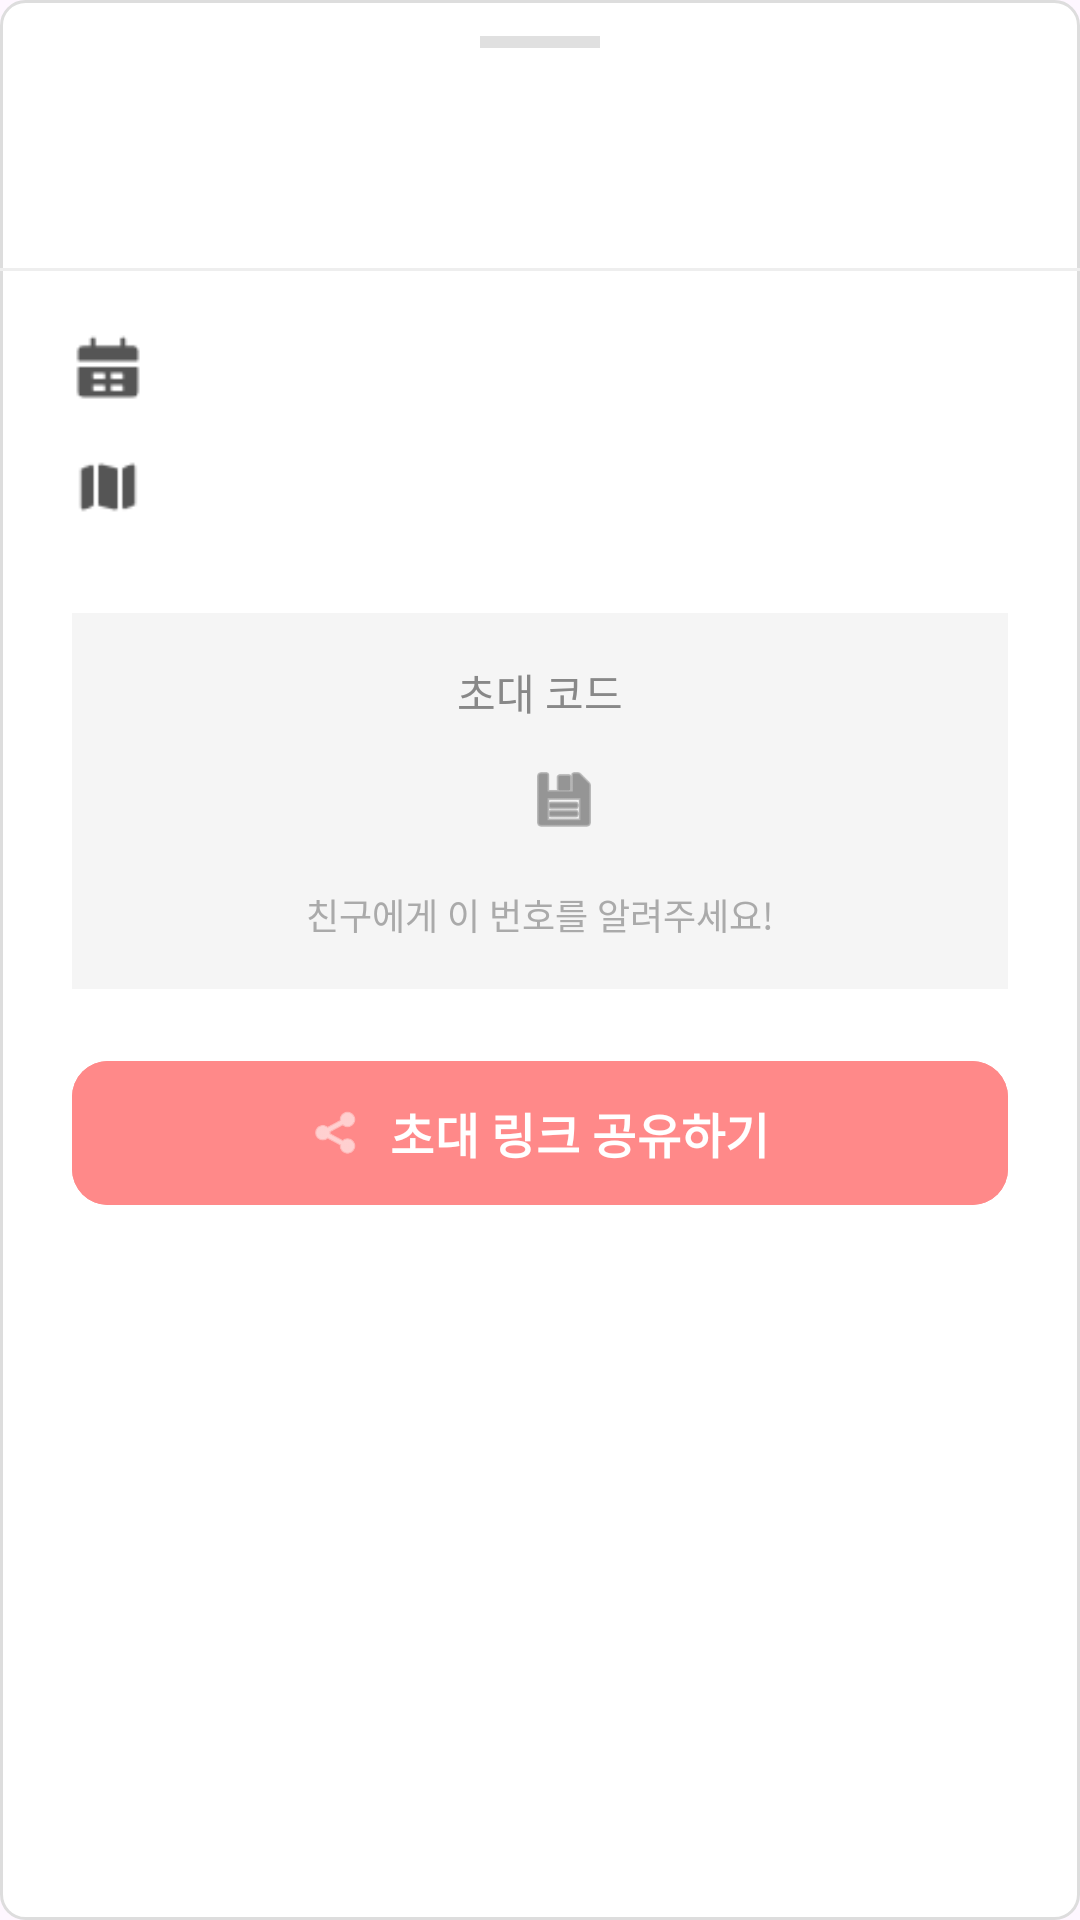

Where to tap for icons on this 1080 x 1920 app screen, as [x,y]:
calendar: [108,367]
location: [108,487]
save: [564,799]
